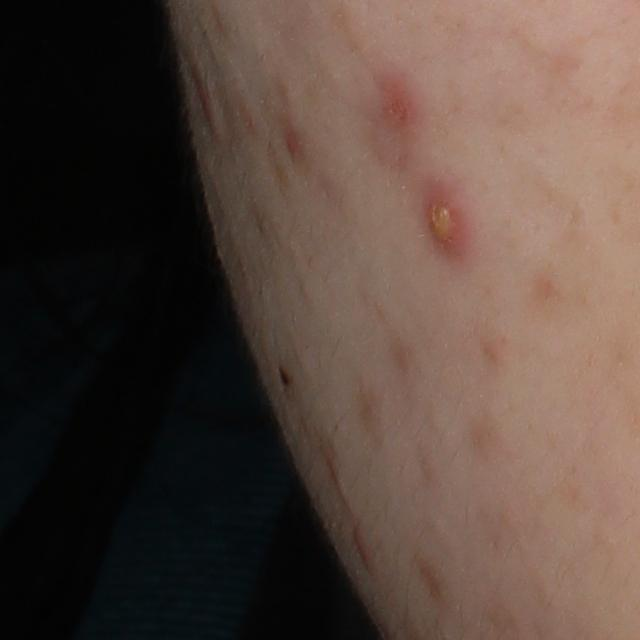papule: (379, 75, 422, 128)
pustule: (418, 174, 477, 266)
